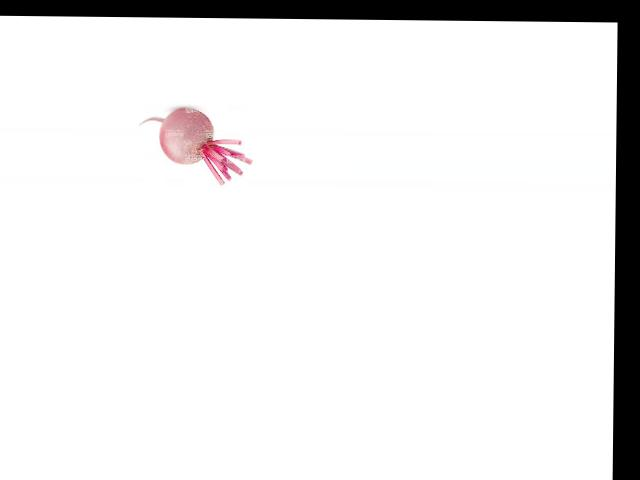beet: (138, 107, 253, 185)
